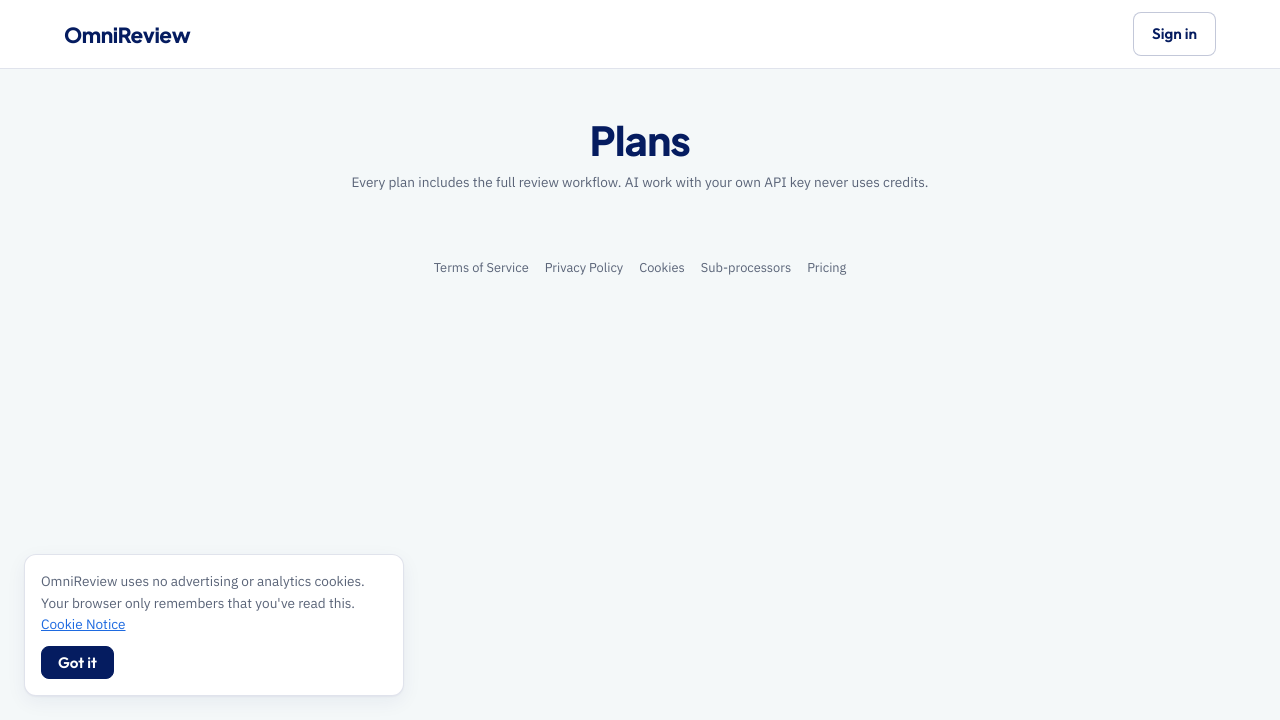
Accounts and billing › remembers that the cookie notice was dismissed
Click the button "Got it".
click(77, 662)  # box [41,646,114,679]
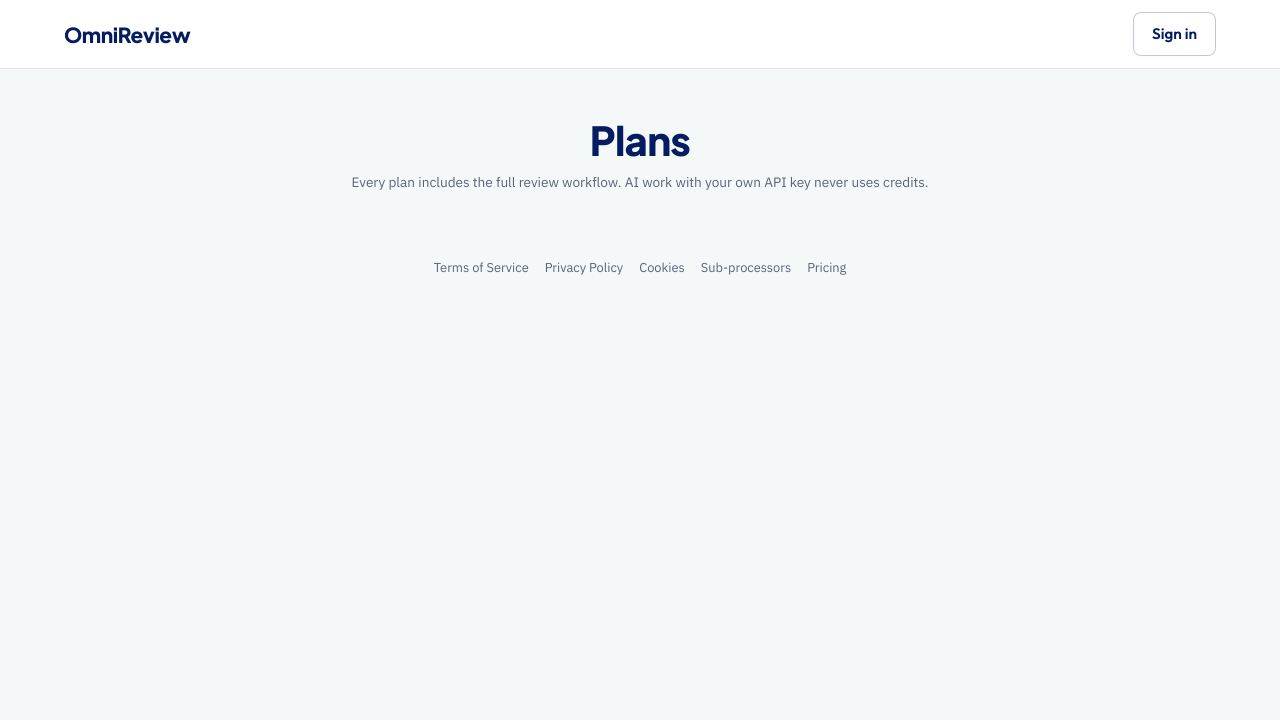
expect the link "Cookie Notice" is gone: met
